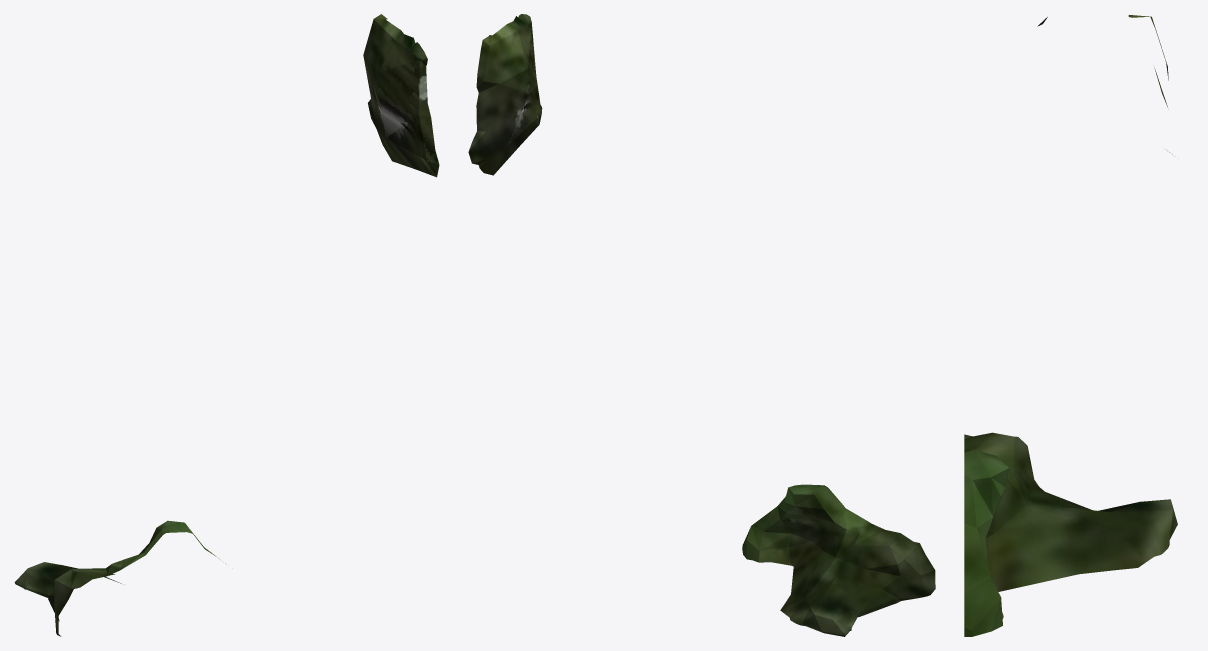
3 views of the same model, side by side, from view 1: azimuth 30°, elevation 25°; view 2: azimuth 150°, elevation 25°; view 3: azimuth 270°, elevation 25° (orthographic). The views are drawn at different scales.
Size of the model in its own units: 0.6857 by 0.8374 by 0.2256.
Materials: 1 (1 with a texture image).
